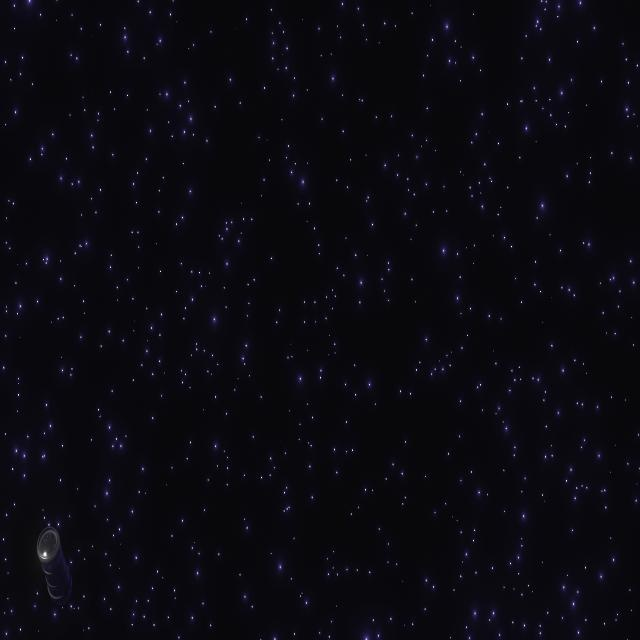large_debris: (39, 525, 74, 613)
